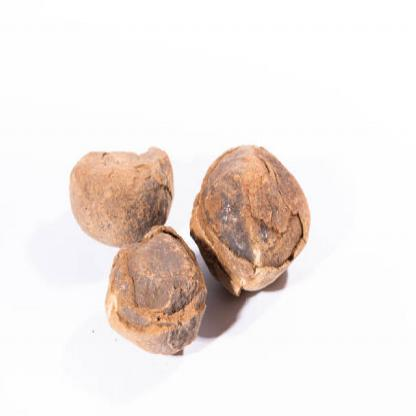Sedimentary_Limestone: (187, 138, 317, 306), (104, 220, 210, 361), (69, 128, 179, 255)
